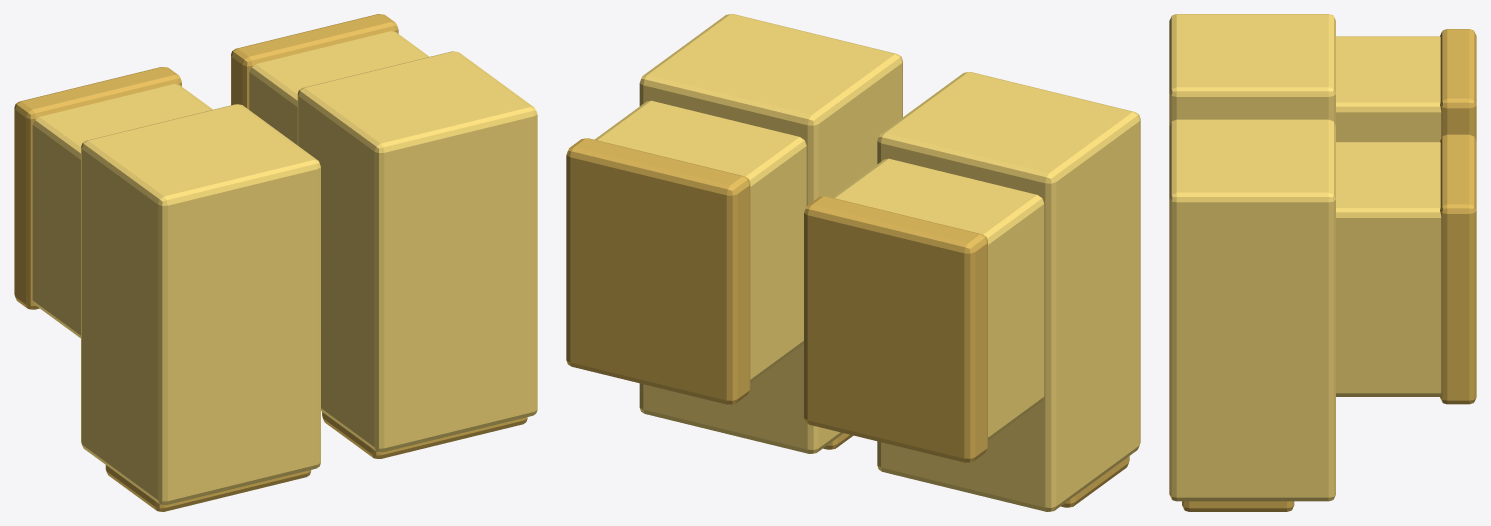
The model's file is gold_boots_held.gltf.
The picture shows the model from 3 angles, left to right: view 1: azimuth 30°, elevation 25°; view 2: azimuth 150°, elevation 25°; view 3: azimuth 270°, elevation 25°; orthographic projection. The views are drawn at different scales.
Visible parts, largest first — view 1: armor_gold_boots_held; view 2: armor_gold_boots_held; view 3: armor_gold_boots_held.
Boxes of the visible parts, x1,y1,x2,y2 form: armor_gold_boots_held: (14, 14, 537, 511); armor_gold_boots_held: (566, 14, 1140, 511); armor_gold_boots_held: (1169, 14, 1476, 511).
Bounding box in the file's own units: 0.16 × 0.1295 × 0.1124.
